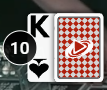k: (28, 13, 52, 39)
